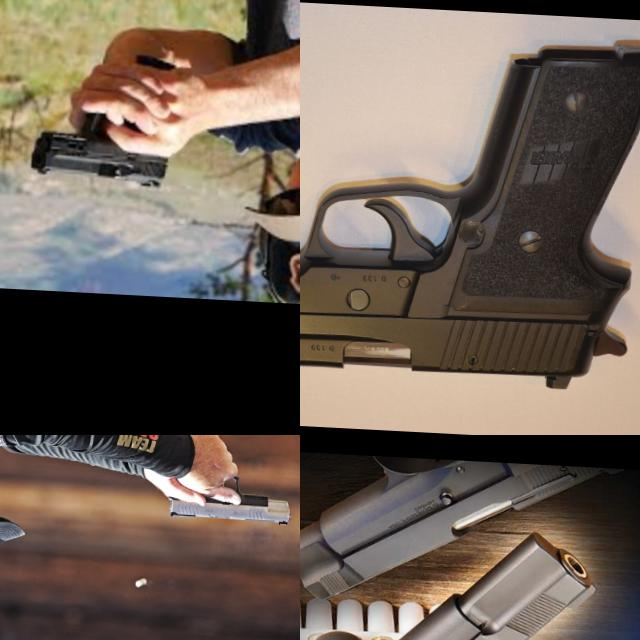handgun: (300, 16, 640, 399), (300, 501, 599, 640), (26, 105, 172, 190), (167, 472, 294, 524)
